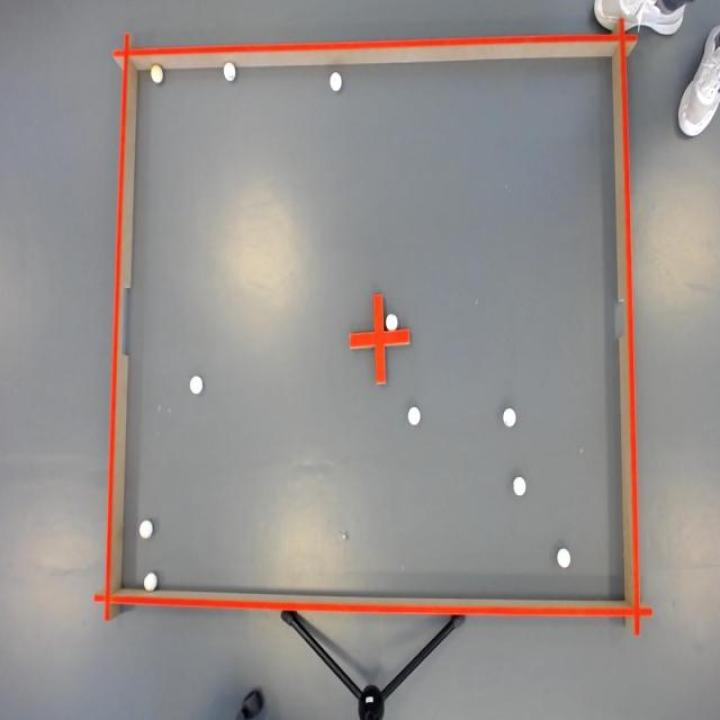white: (555, 544, 573, 570), (150, 60, 166, 88), (328, 69, 344, 96), (511, 476, 530, 498), (188, 373, 205, 397), (407, 402, 422, 428), (138, 517, 154, 541), (503, 404, 516, 430), (222, 61, 237, 82), (143, 570, 157, 592), (386, 312, 399, 332)
